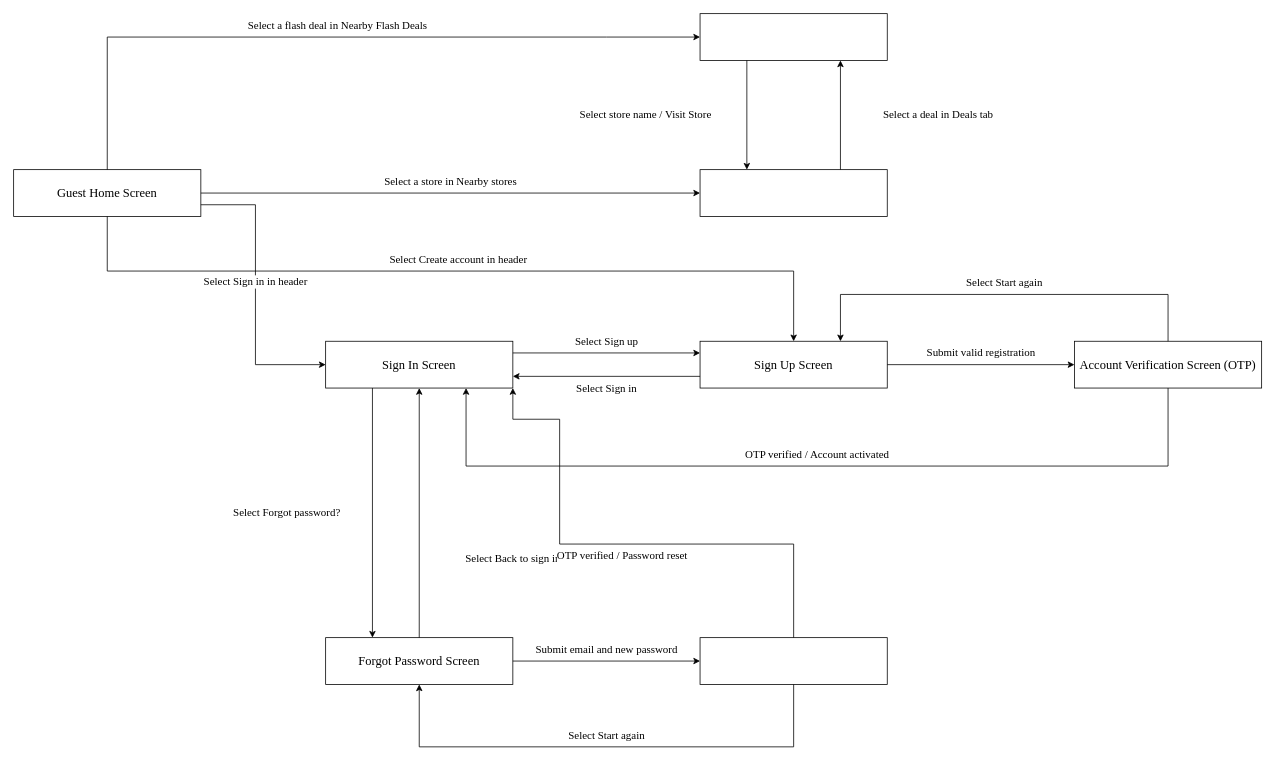
Some shapes in this 1275 by 767 pixel diagram are drawn without their labels. The shapes that lost their labels are listed below. From the top down, each one's box as (x1, y1, x2, y2) in pixels, then its label:
(699, 13, 887, 60): Flash Deal Details Screen
(699, 169, 887, 216): Store Profile Screen
(699, 637, 887, 684): Password Reset Verification Screen (OTP)
